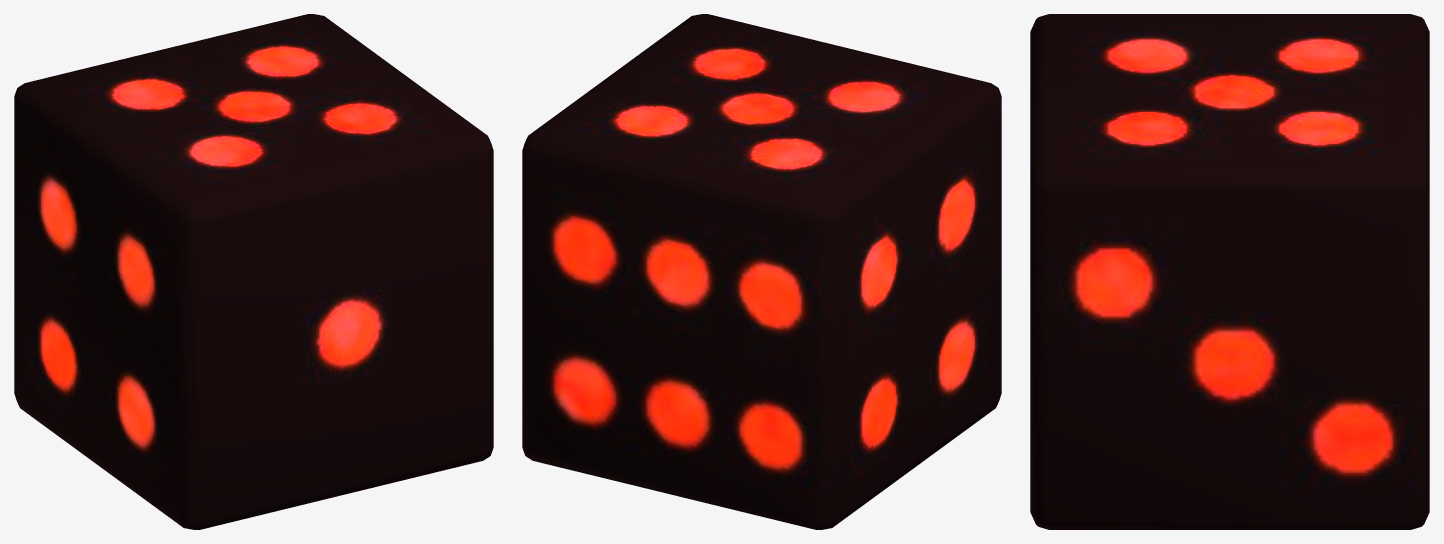
3 renders of one model, left to right at view 1: azimuth 30°, elevation 25°; view 2: azimuth 150°, elevation 25°; view 3: azimuth 270°, elevation 25°, orthographic. The views are drawn at different scales.
Parts seen in each view (by area): view 1: 6Yellow; view 2: 6Yellow; view 3: 6Yellow.
Part boxes in pixels (x1,y1,x2,y2): 6Yellow: (14,14,493,529); 6Yellow: (522,14,1001,529); 6Yellow: (1030,14,1429,529).
Size of the model in its own units: 1.17 by 1.17 by 1.17.
1 material, 1 textured.
